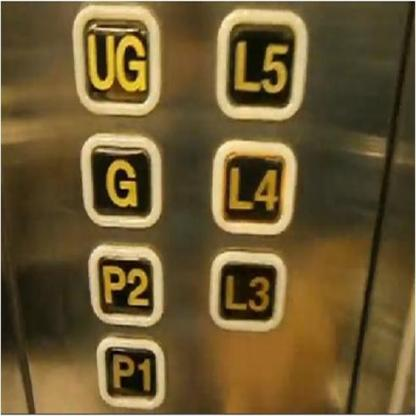G: (80, 129, 163, 229)
L3: (208, 249, 287, 332)
L4: (211, 136, 298, 238)
L5: (215, 4, 307, 122)
P1: (95, 333, 165, 412)
P2: (87, 240, 165, 329)
UG: (70, 1, 163, 118)
